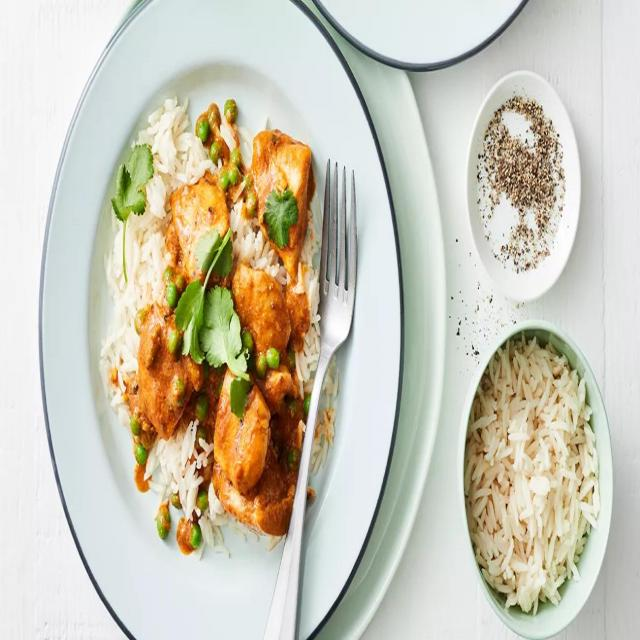chicken: (138, 151, 345, 530)
rice: (476, 348, 600, 593)
